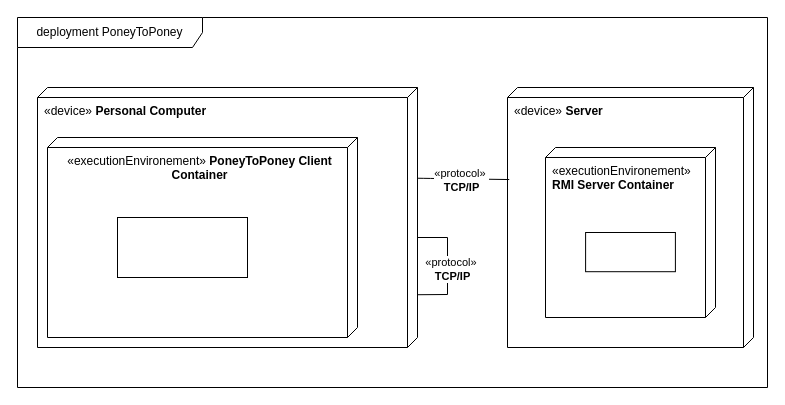
This 785x405 diagram has some shape labels left out. The shapes that lost their labels are listed below. From the top down, each one's centre as x and y in pixels, then its label:
At point (182, 247): "<<artifact>> ClientChat.jar".
At point (630, 252): "<<artifact>> JavaRMI.jar".
